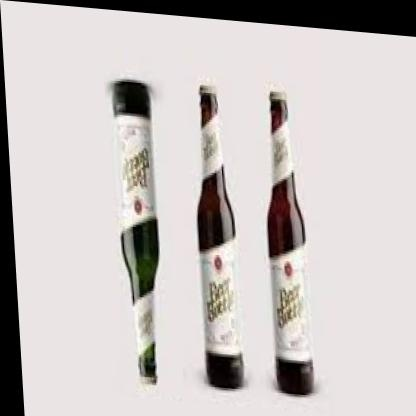trash: (197, 85, 243, 388), (268, 90, 313, 394), (113, 80, 158, 383)
